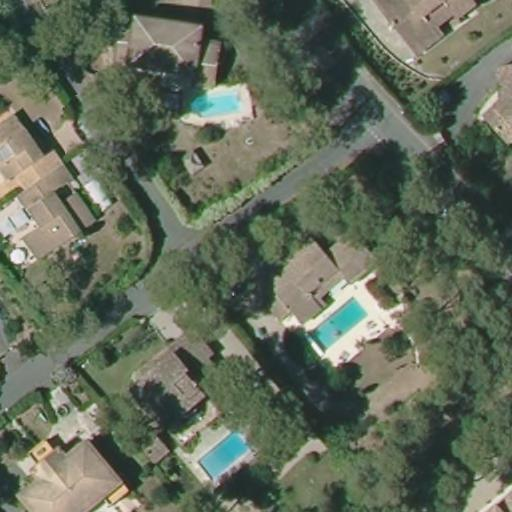pool: (301, 296, 375, 355), (192, 420, 262, 477), (176, 83, 251, 126)
